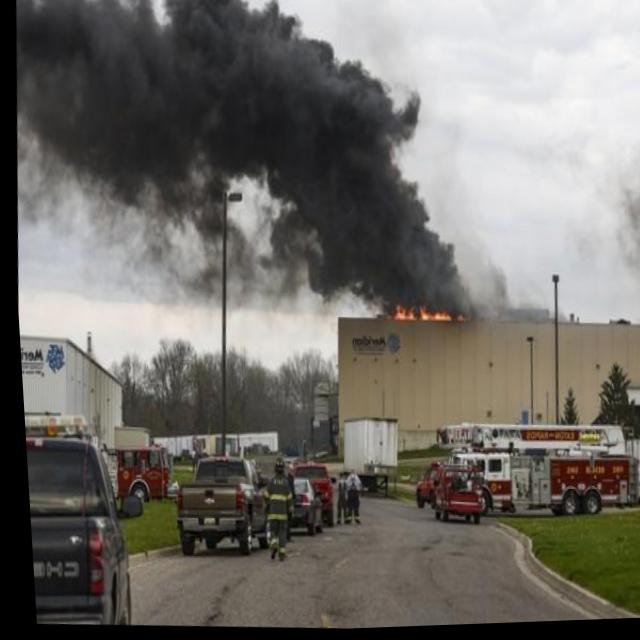fire: (379, 298, 468, 330)
